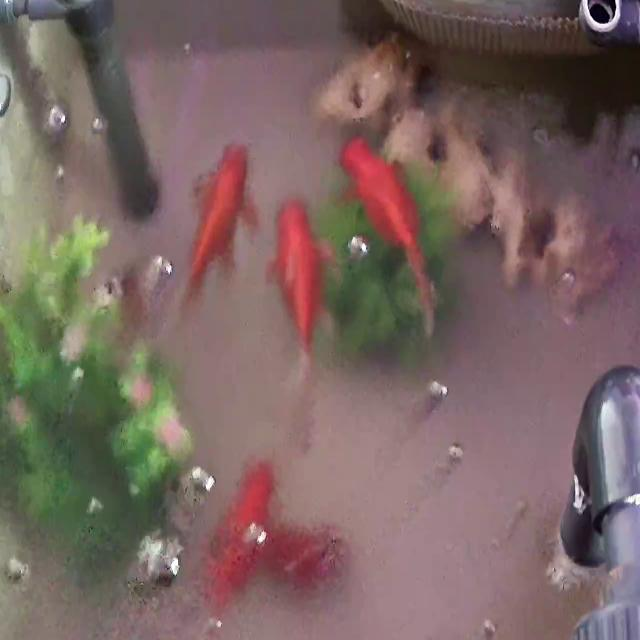fish: (339, 137, 430, 337), (182, 141, 258, 313), (204, 457, 278, 613), (277, 199, 335, 369), (273, 526, 346, 592)
